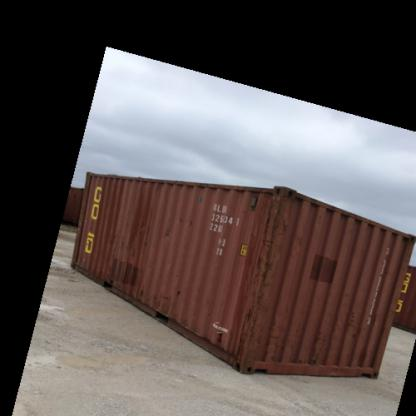Damage: (239, 190, 288, 360), (120, 268, 164, 305), (300, 327, 327, 362), (130, 210, 154, 247), (341, 305, 367, 336), (167, 213, 204, 230), (97, 263, 119, 289), (207, 322, 226, 345), (171, 282, 188, 300)
